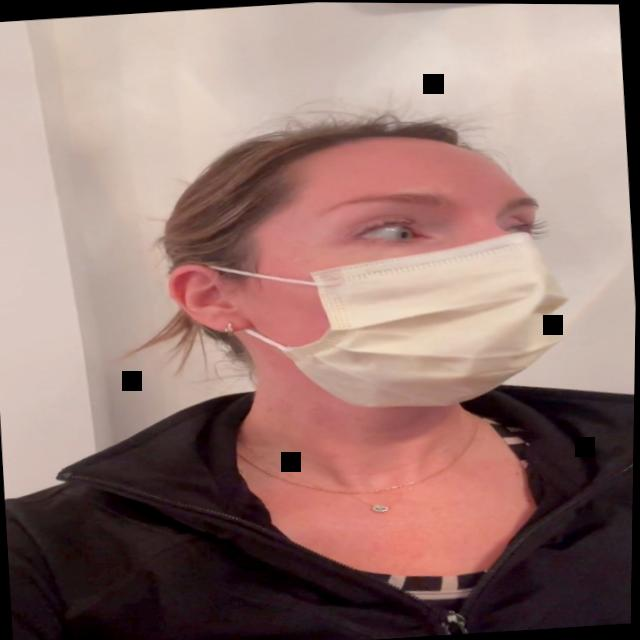Mask: (198, 120, 583, 422)
